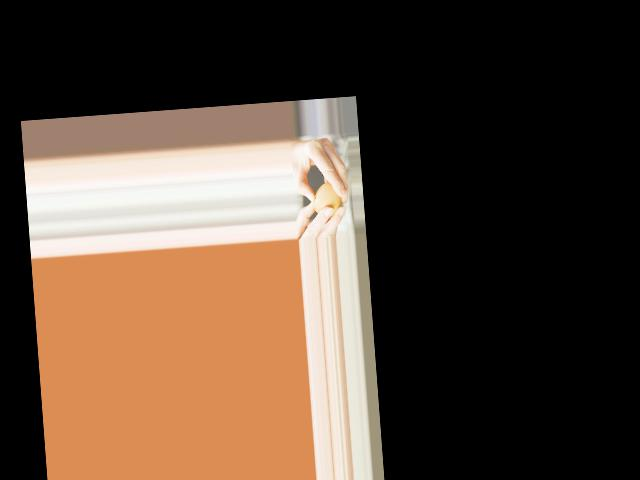egg: (312, 181, 343, 218)
